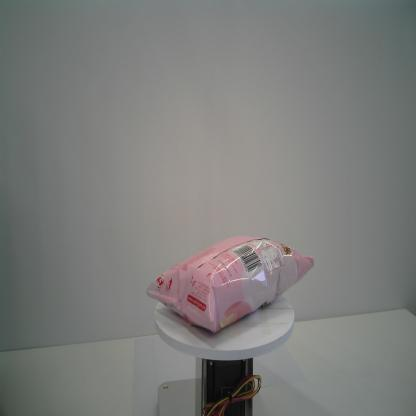Puffed Food: (146, 233, 314, 335)
